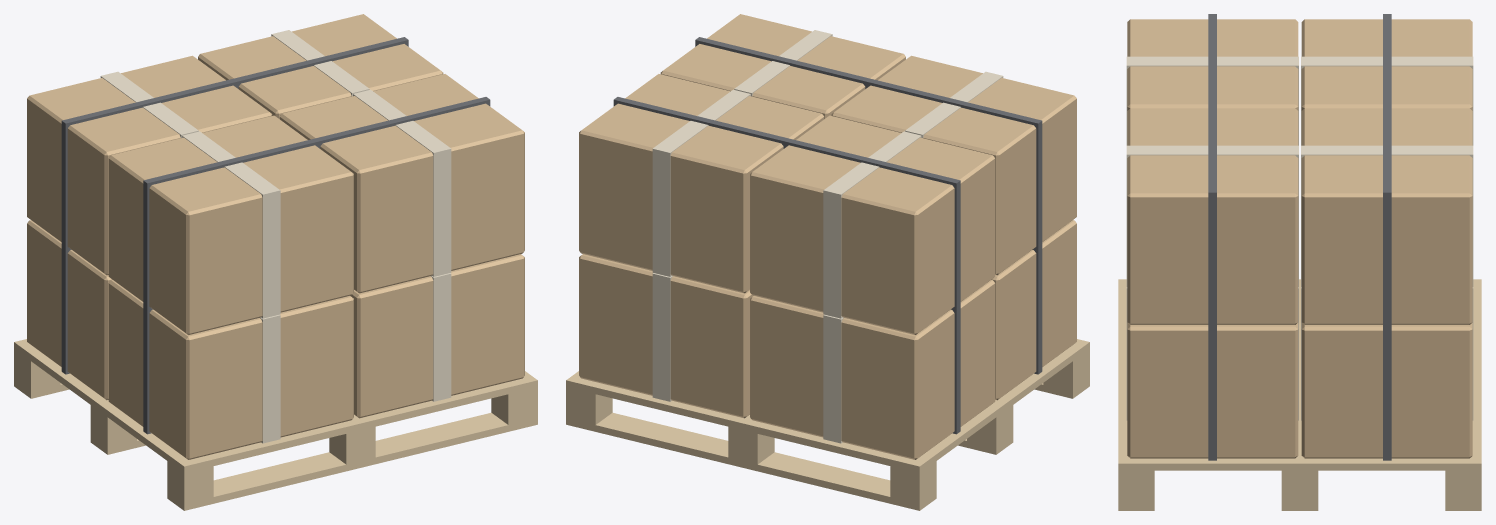
The model's file is palete_caixas_medio.glb.
3 views of the same model, side by side, from view 1: azimuth 30°, elevation 25°; view 2: azimuth 150°, elevation 25°; view 3: azimuth 270°, elevation 25° (orthographic). The views are drawn at different scales.
Parts seen in each view (by area): view 1: corpo; view 2: corpo; view 3: corpo.
Part boxes in pixels (box(x1,y1,x2,y2)): corpo: box(14, 14, 537, 510); corpo: box(566, 14, 1089, 510); corpo: box(1118, 14, 1481, 510).
Bounding box in the file's own units: 1.2 × 0.958 × 1.
